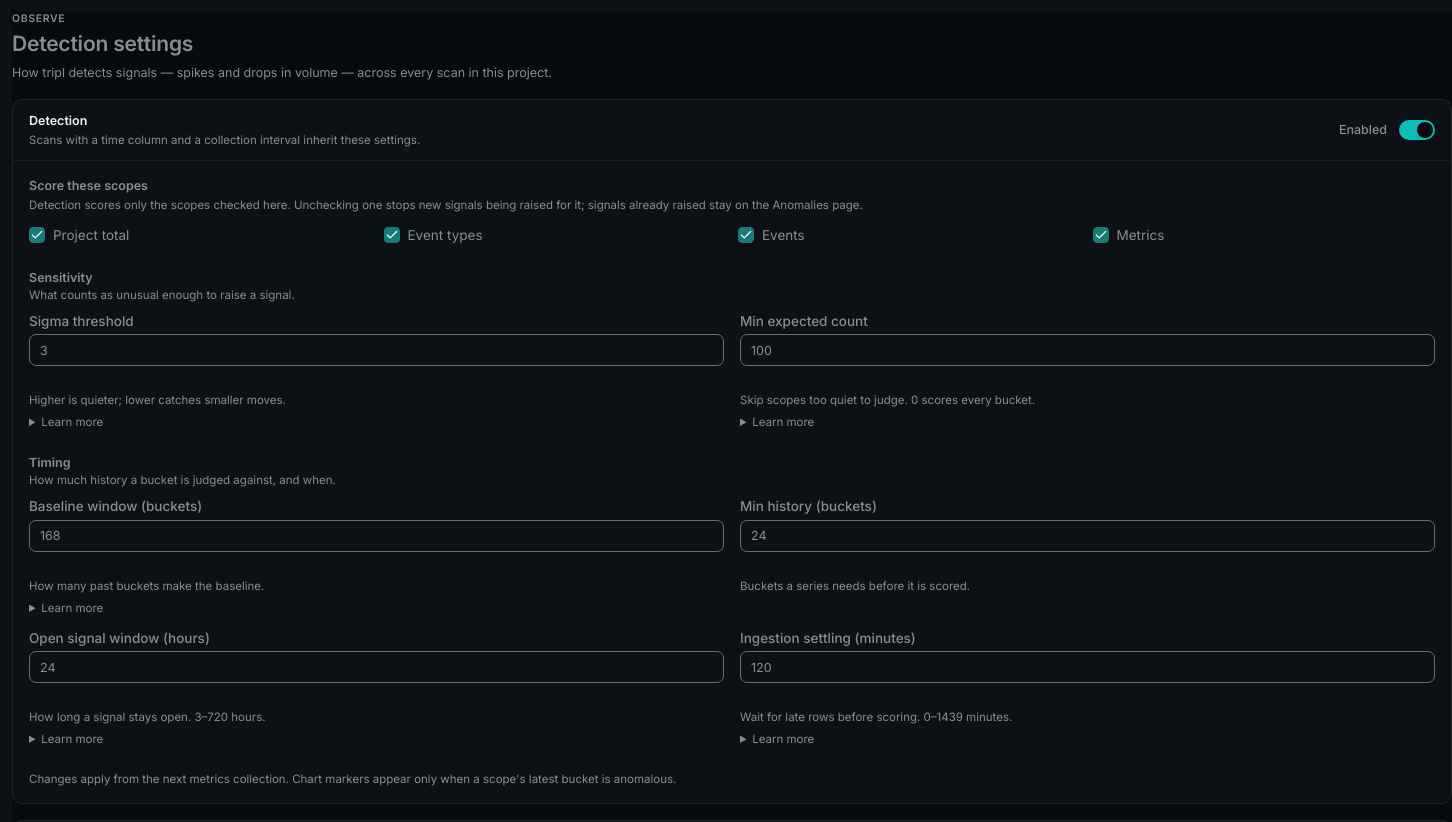
Scenario: MonitoringTab — a failed refresh after an autosave (review 204) › keeps the settings on screen and says the refresh failed
Replace the text in the number field labelled "Sigma threshold" with "4". click: (376, 350)
box: x1=29 y1=334 x2=724 y2=366
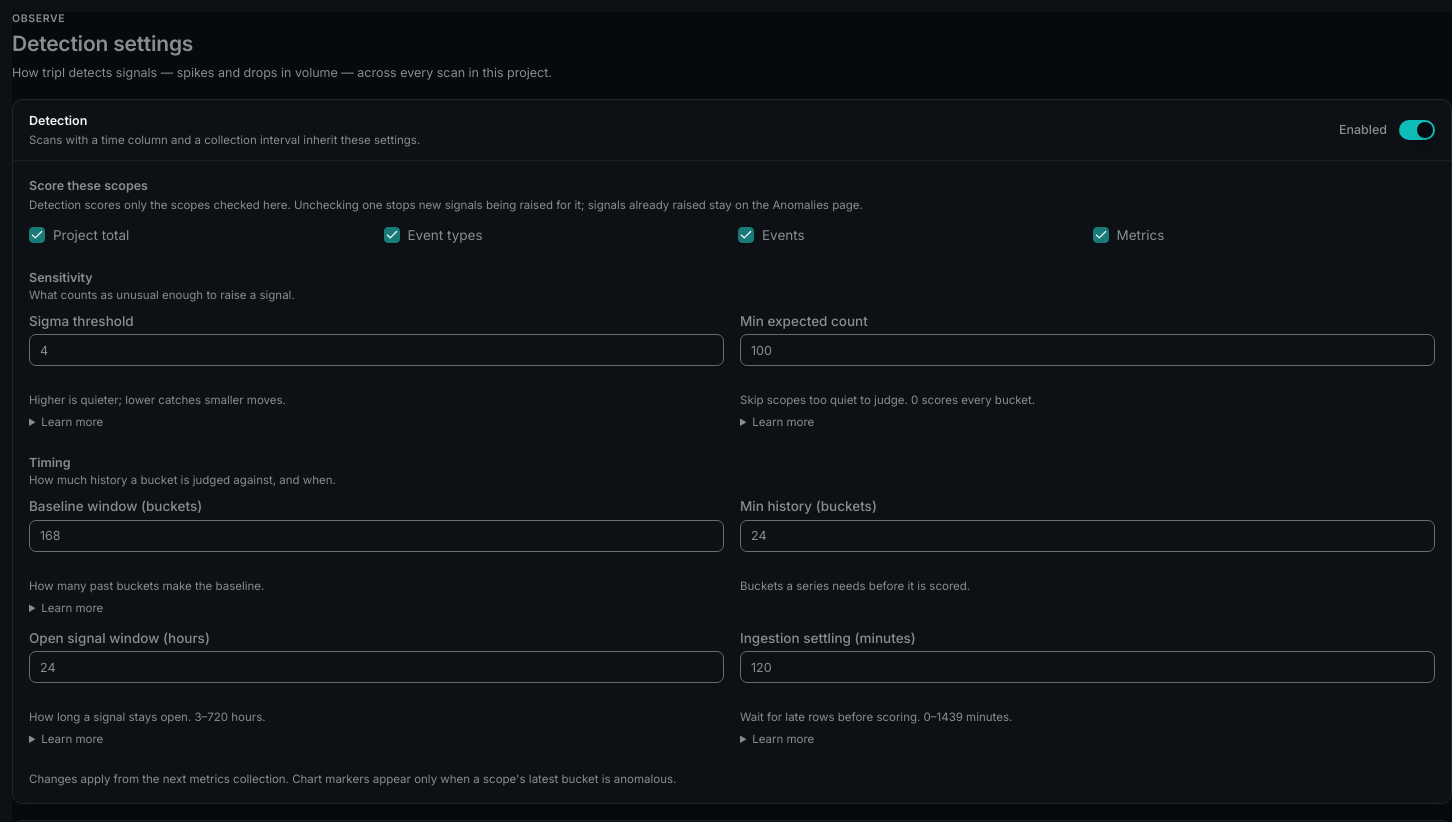
Leave the number field labelled "Sigma threshold", box x1=29 y1=334 x2=724 y2=366
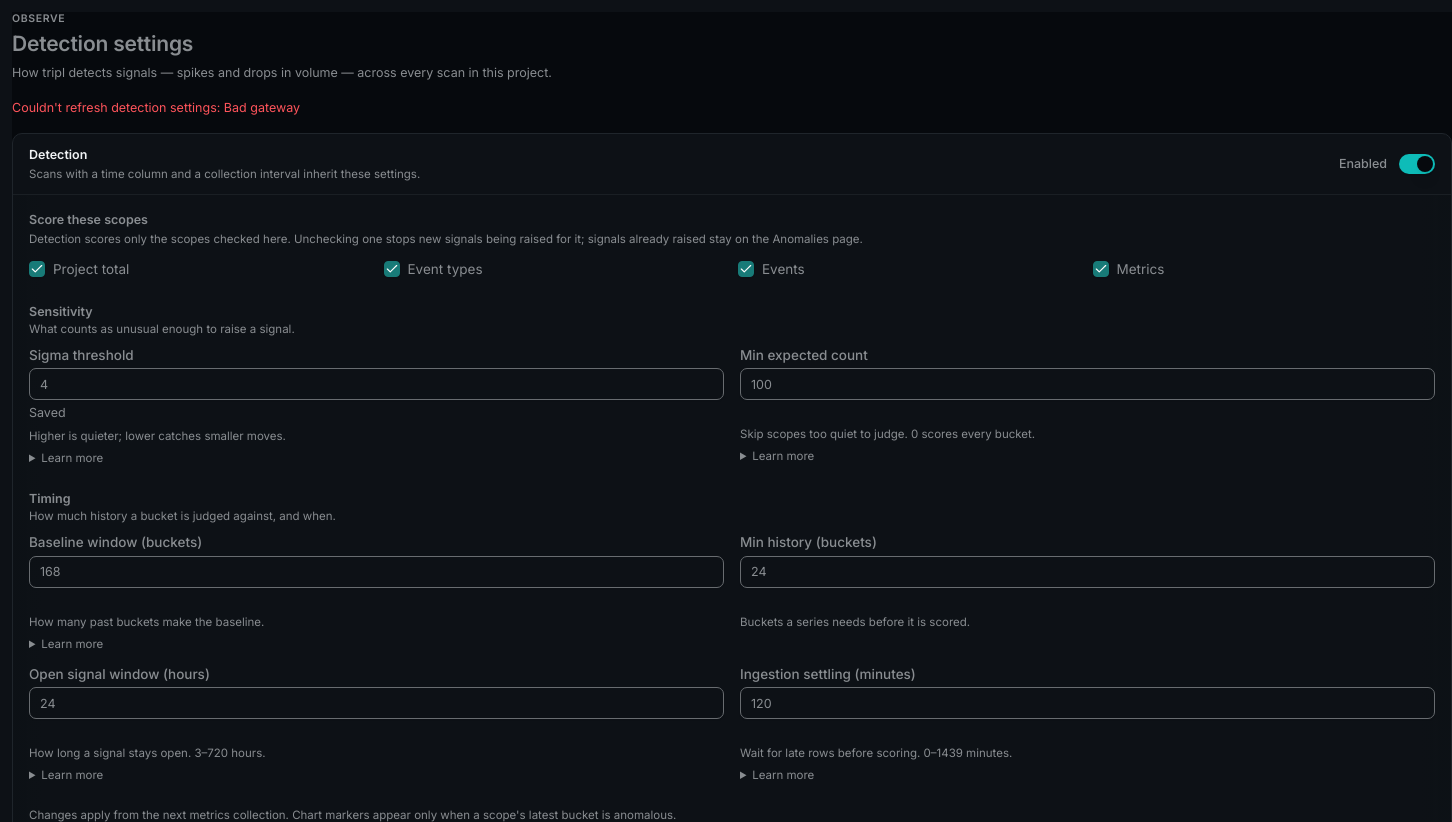
Check: the text "Couldn't refresh detection settings: Bad gateway" is shown, box x1=12 y1=100 x2=300 y2=115
